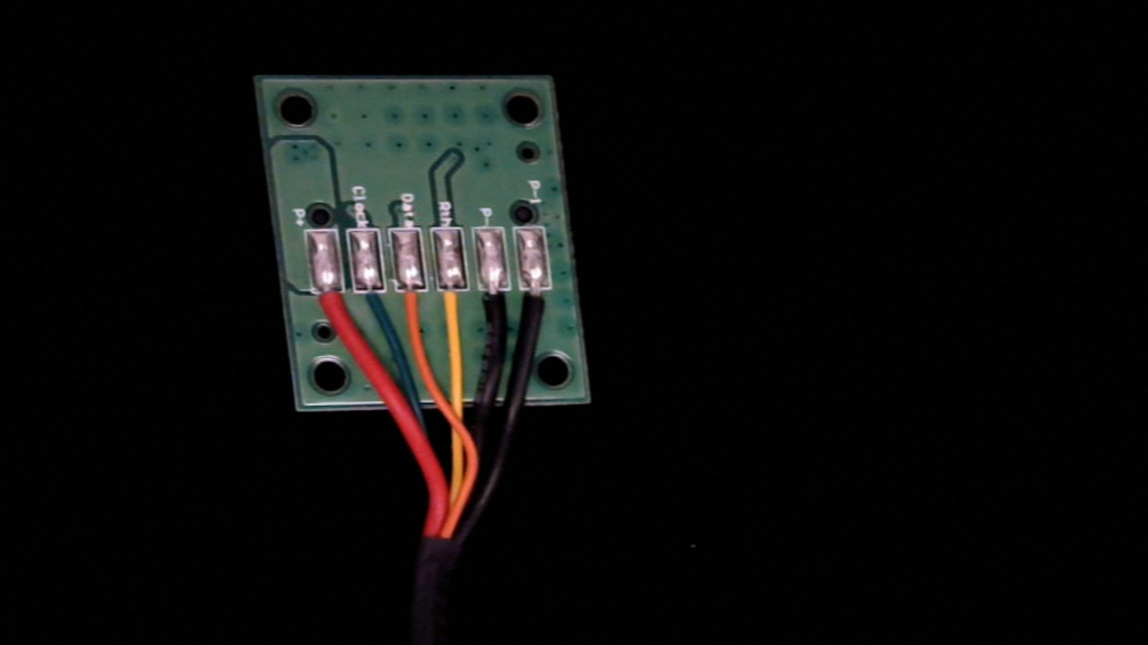Black: (476, 275, 517, 335)
Black1: (517, 275, 558, 336)
Green: (350, 278, 392, 326)
Orange: (391, 277, 431, 329)
Red: (308, 277, 349, 325)
Yellow: (431, 277, 478, 331)
